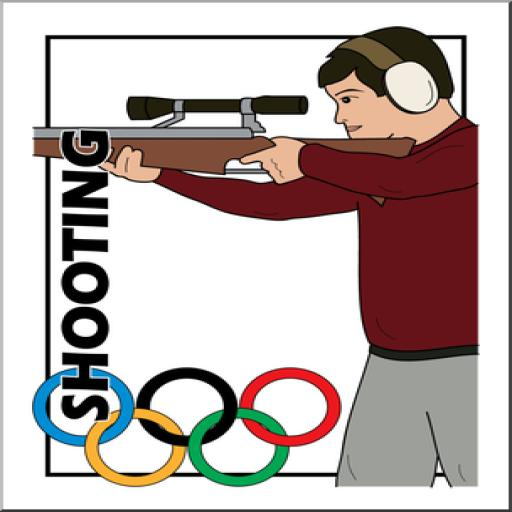shooting: (96, 25, 482, 490)
